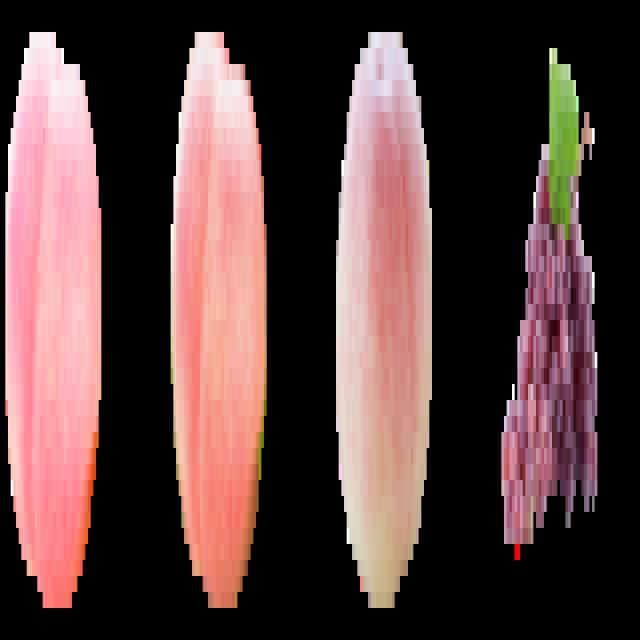grape: (494, 32, 610, 567)
peach: (164, 25, 273, 628), (330, 12, 436, 624), (2, 25, 108, 628)
